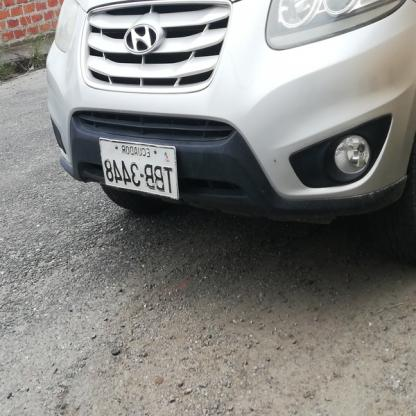Placa: (100, 137, 178, 200)
